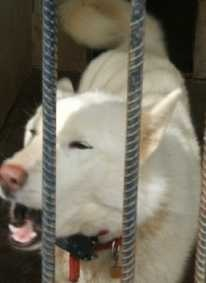dog: (12, 41, 193, 279)
